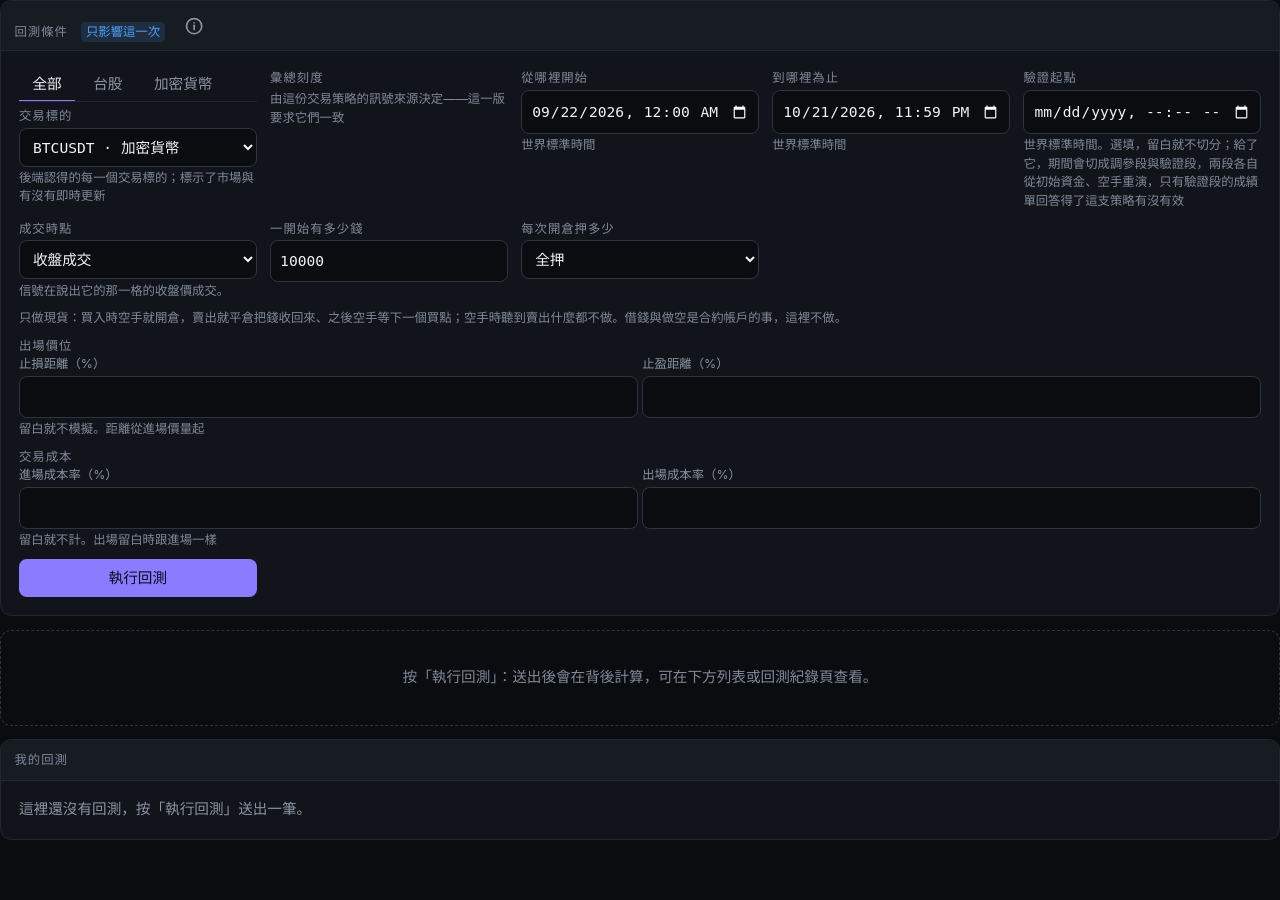
Test case: TradingStrategyBacktestPane › 重演這一份 › 同時太多筆時說出上限，列表不變
Select "BTCUSDT · 加密貨幣" in the dropdown with test id "symbol-select": [138, 147] box [19,128,257,166]
Submit the form
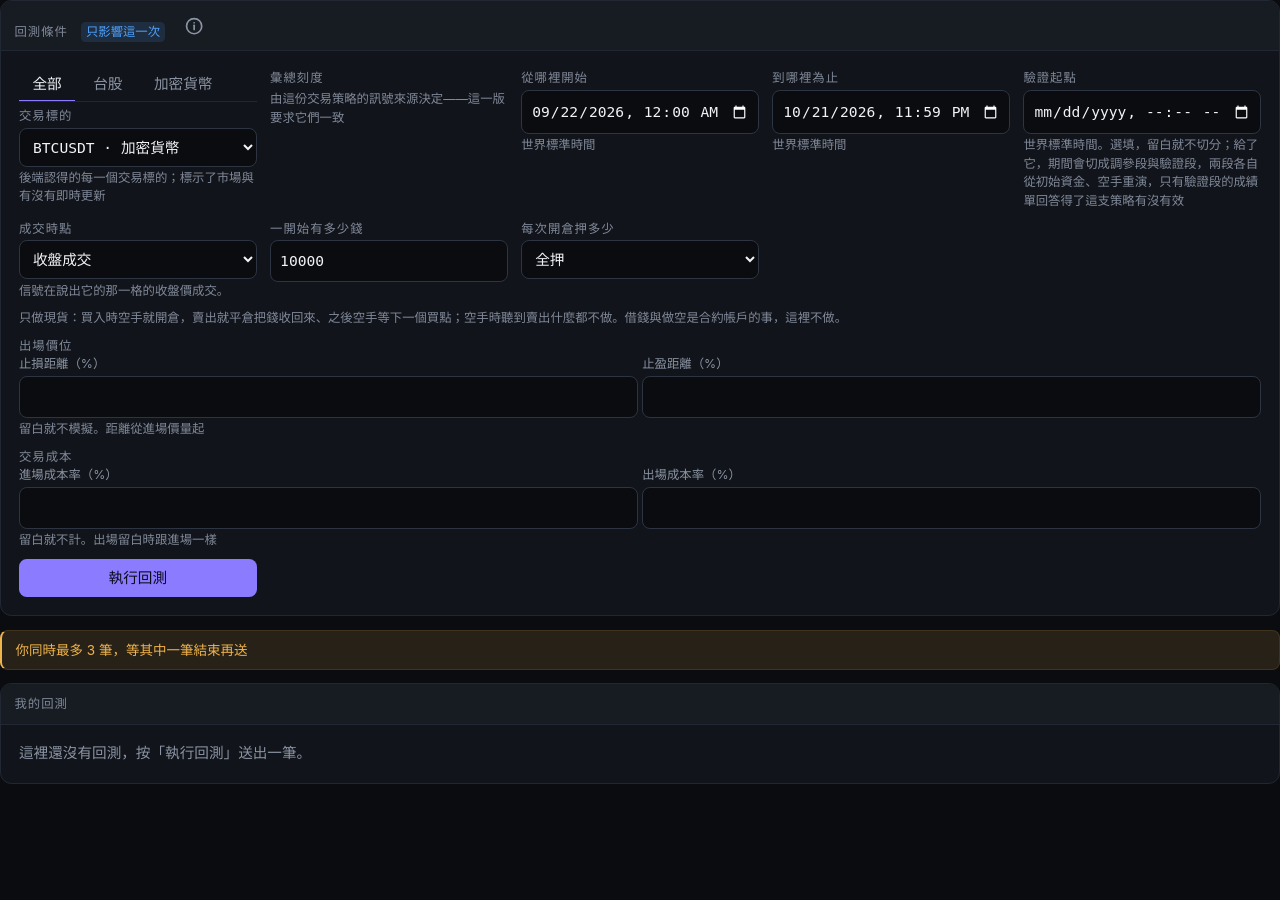
Now the message with test id "backtest-owner-limit-alert" reads "你同時最多 3 筆，等其中一筆結束再送", box [16,642,247,658]
